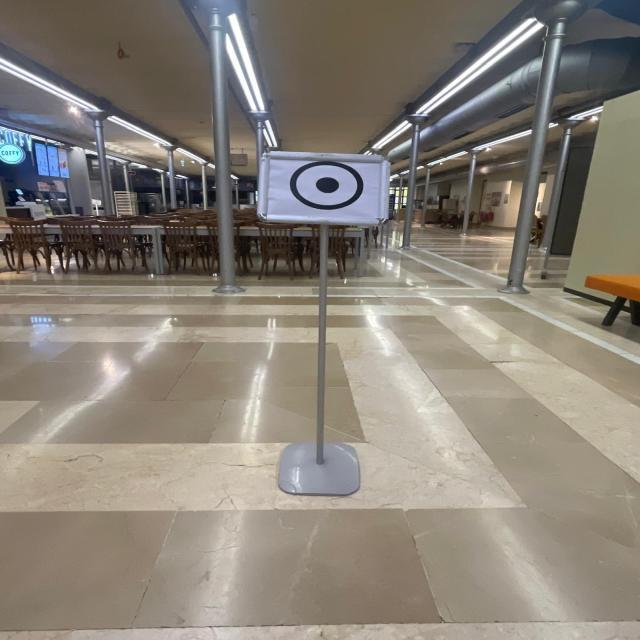Target: (258, 139, 400, 235)
inner: (312, 169, 341, 200)
